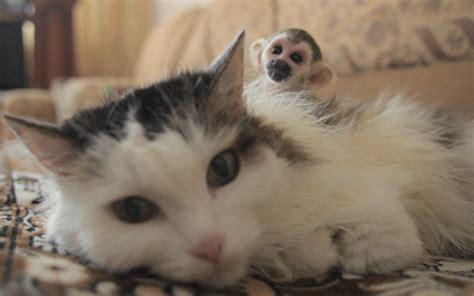cat: (4, 31, 474, 286)
monkey: (250, 27, 332, 98)
